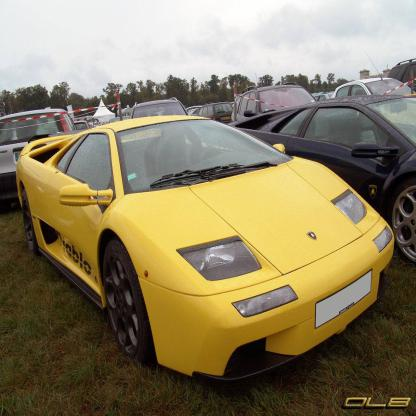Vehicle: (11, 112, 396, 393)
